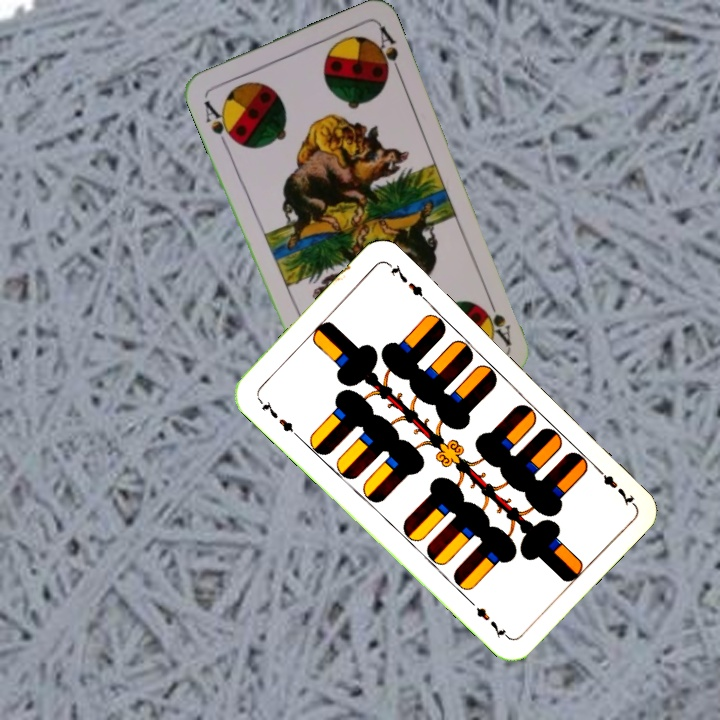E7: (591, 461, 637, 508), (254, 394, 301, 439)
SA: (477, 291, 514, 348), (200, 96, 239, 150)
